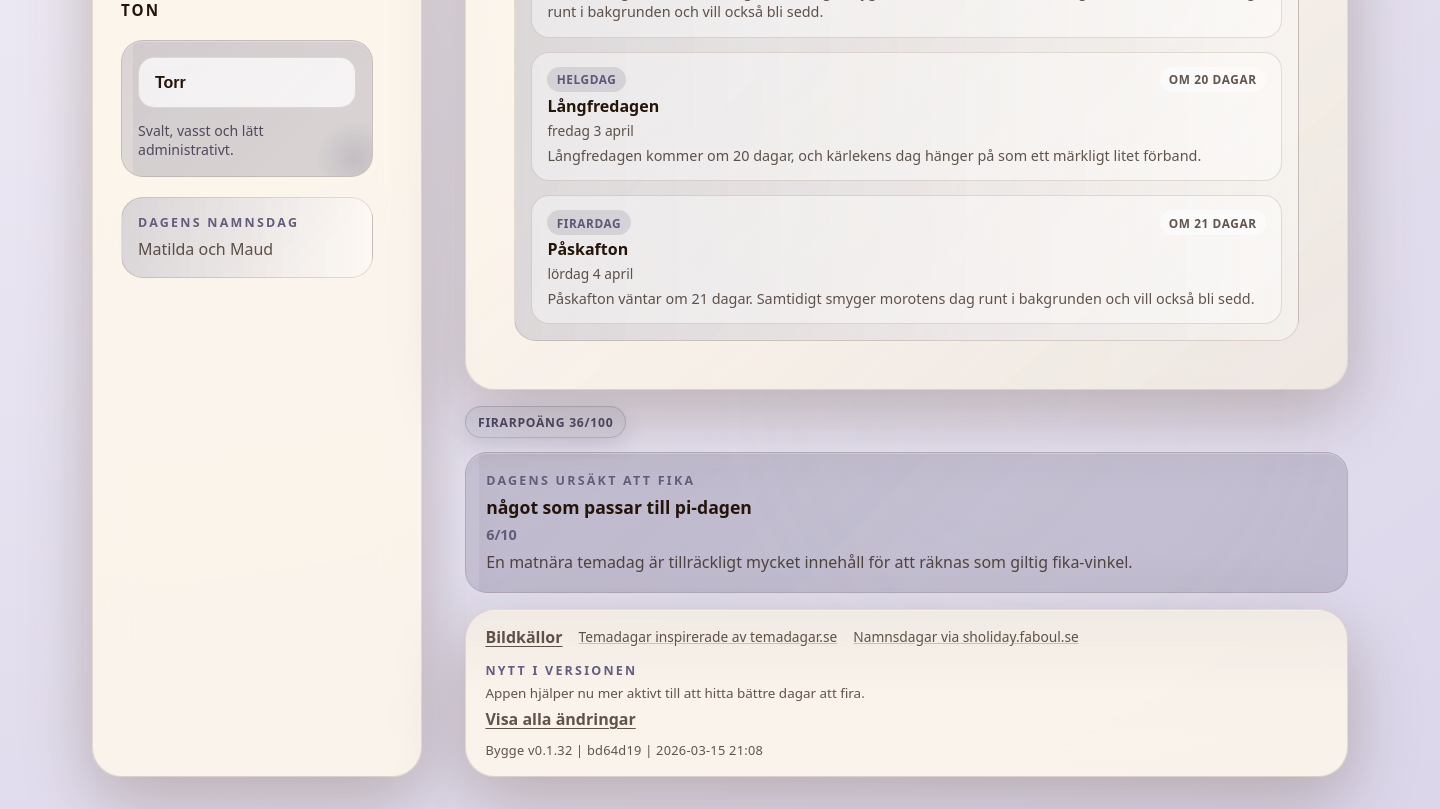
Scenario: shows a simple current release note and opens the changelog history
The image size is (1440, 809).
(page scrolled)
Check: the text "Appen hjälper nu mer aktivt till att hitta bättre dagar att fira." is shown, box [485, 684, 865, 702]
Click the button "Visa alla ändringar" at (561, 719), box [485, 708, 636, 730]
(page scrolled)
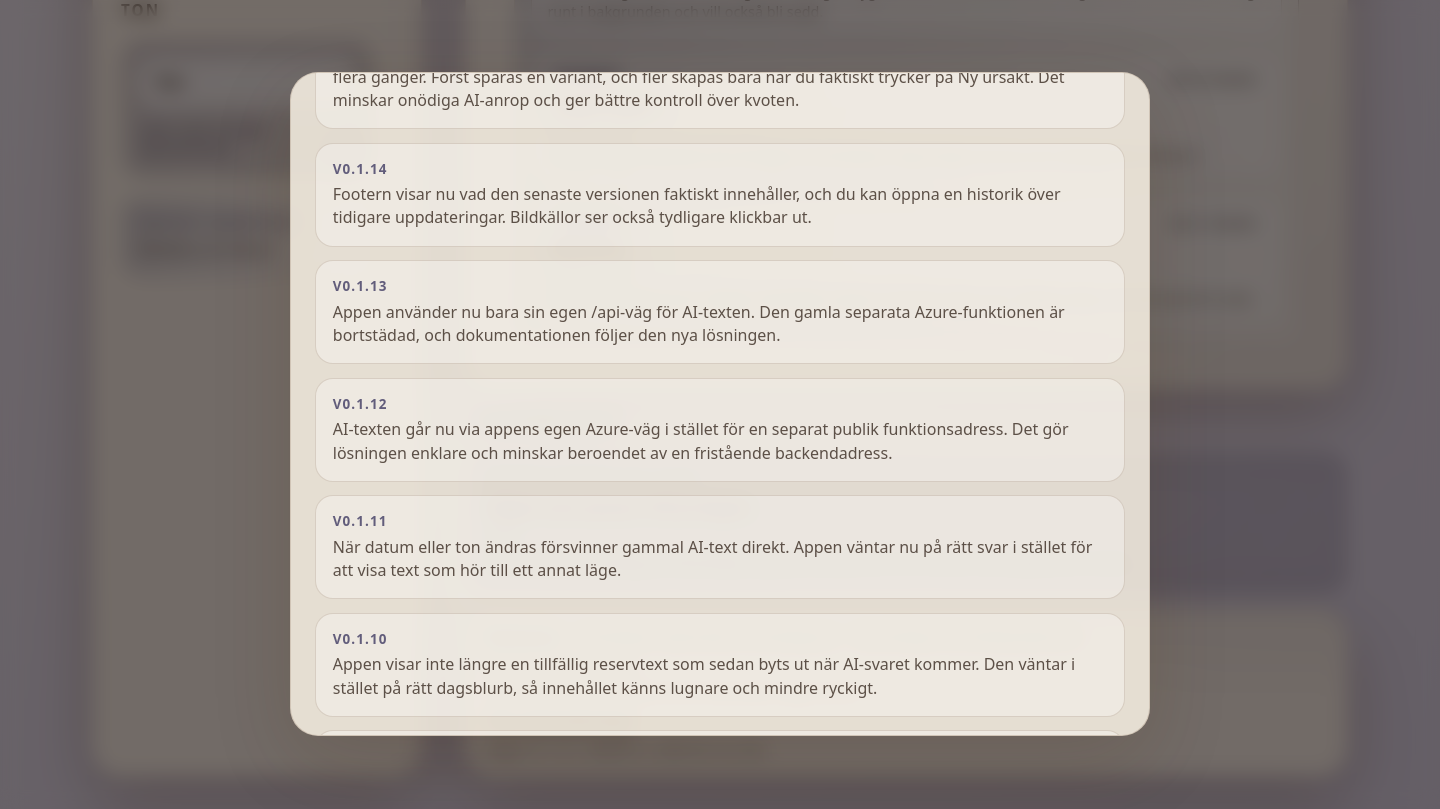
Check: the text "v0.1.12" is shown, box [333, 395, 388, 413]
